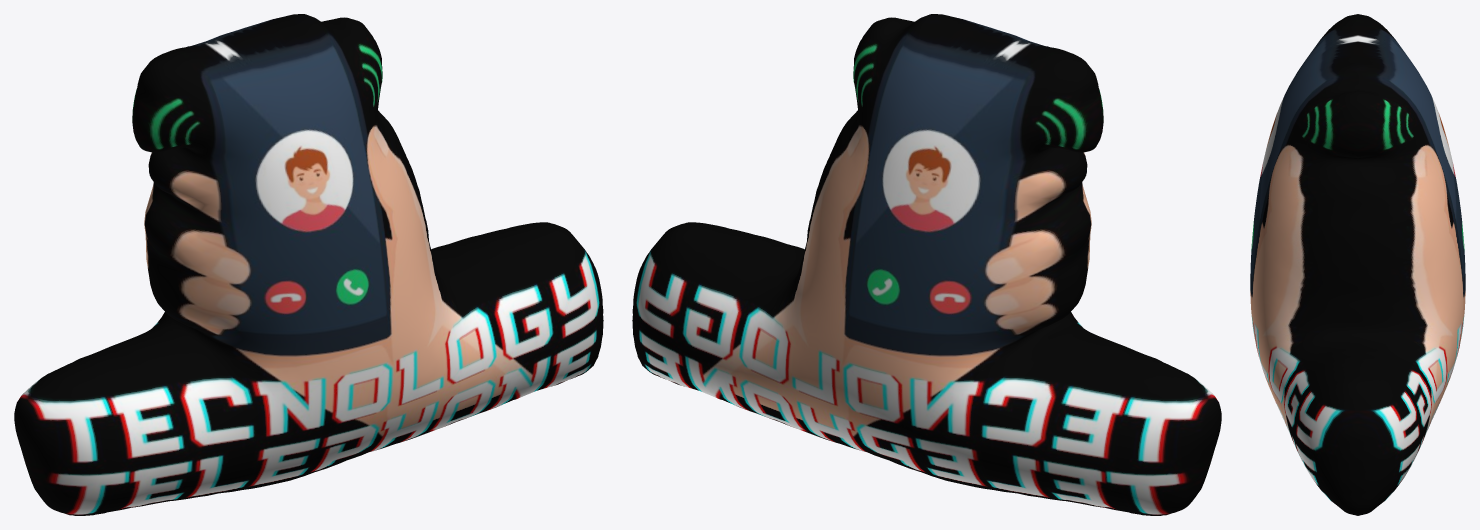
Rendered from mm_project.glb.
3 renders of one model, left to right at view 1: azimuth 30°, elevation 25°; view 2: azimuth 150°, elevation 25°; view 3: azimuth 270°, elevation 25°, orthographic. The views are drawn at different scales.
Size of the model in its own units: 6.02 by 4.45 by 2.38.
1 material, 1 textured.
